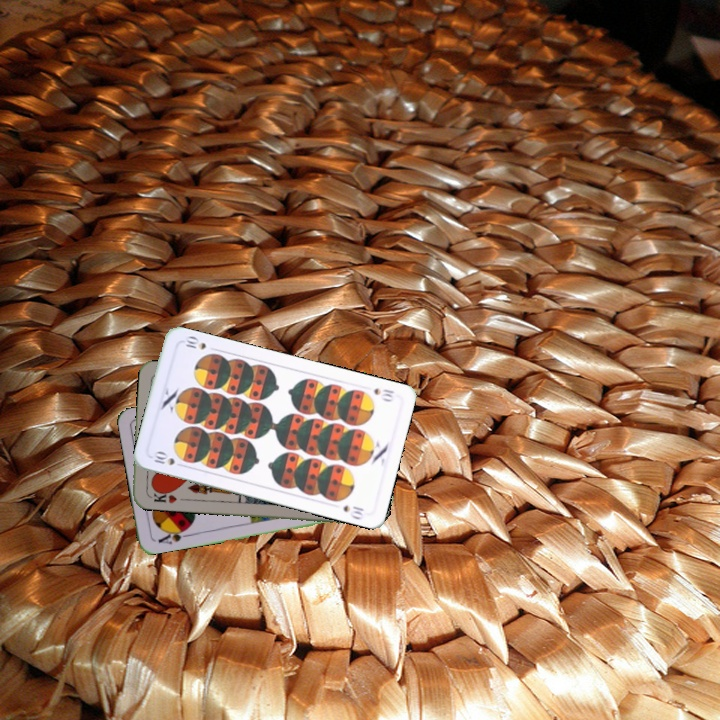HK: (144, 485, 179, 506)
S10: (150, 448, 187, 470), (370, 384, 397, 404)
SA: (154, 524, 192, 547)
